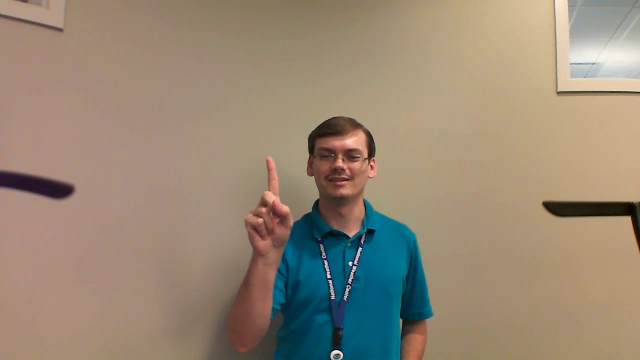up: (239, 153, 298, 261)
